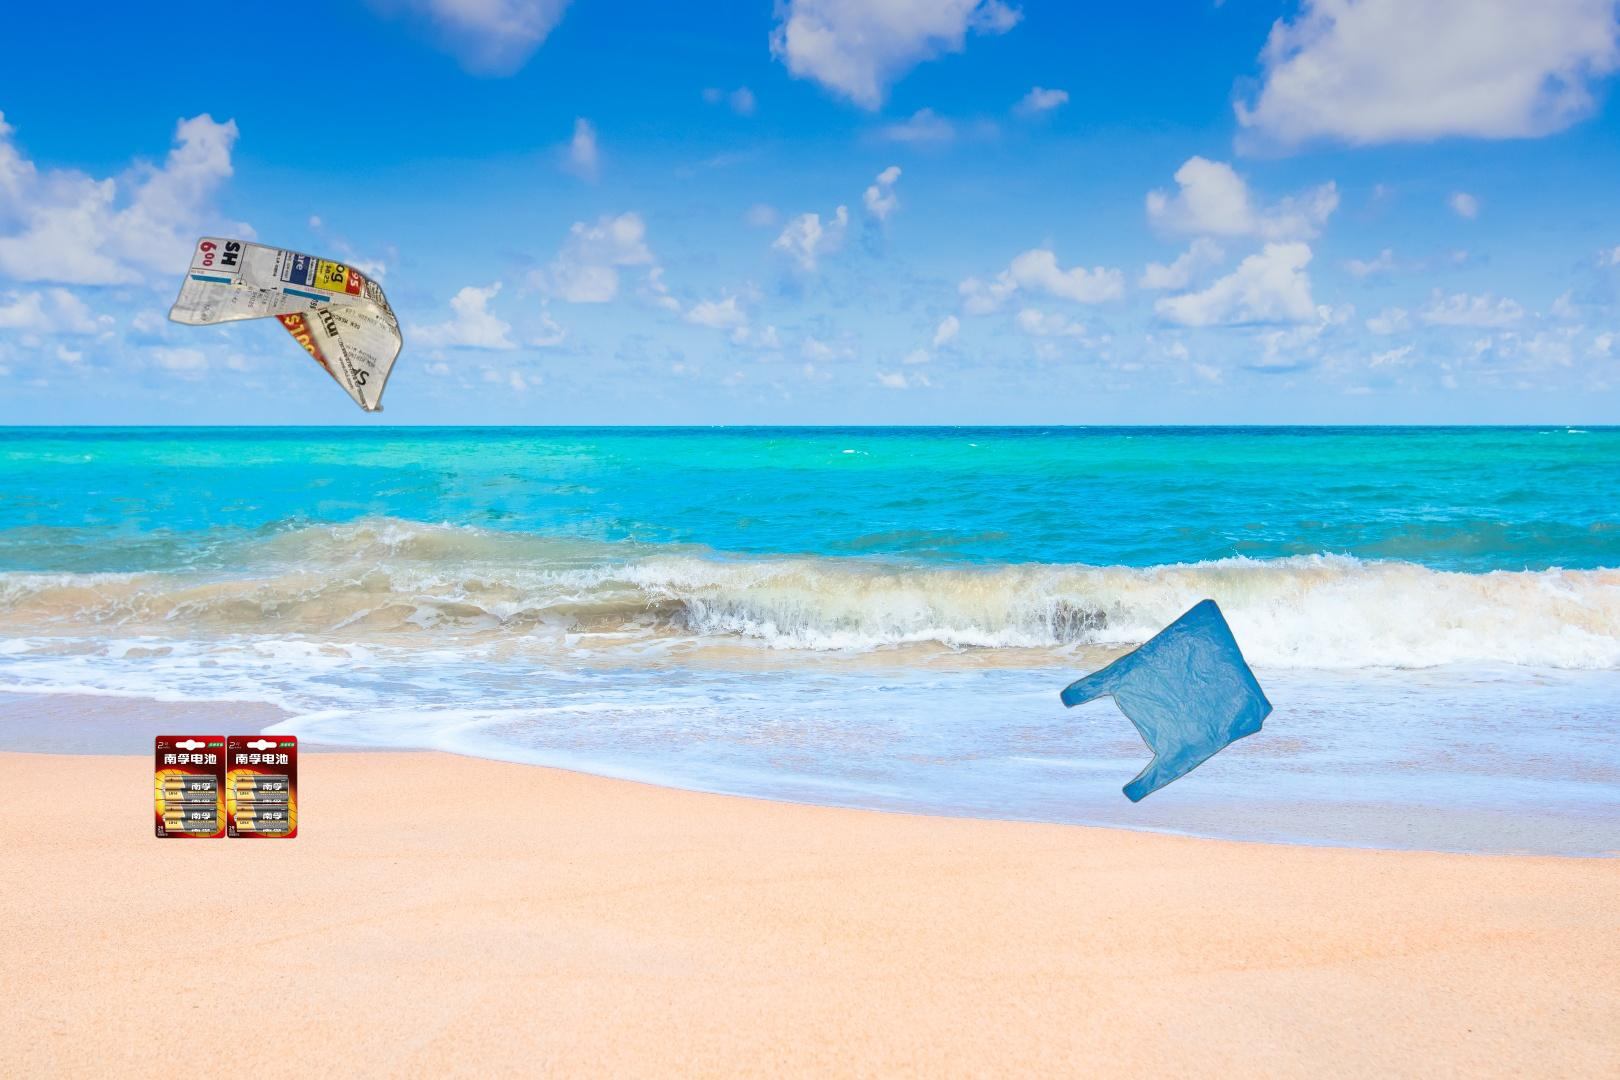battery: (152, 733, 300, 841)
paper: (164, 230, 406, 416), (1597, 1038, 1620, 1080)
plastic-bag: (1057, 595, 1274, 805)
